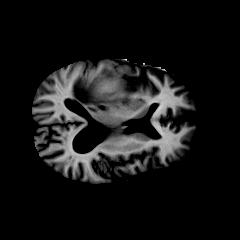glioma: (78, 70, 132, 111)
